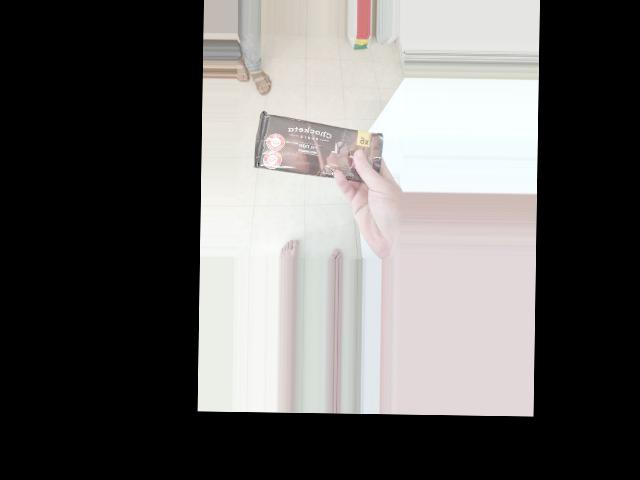chocolate: (253, 111, 387, 186)
